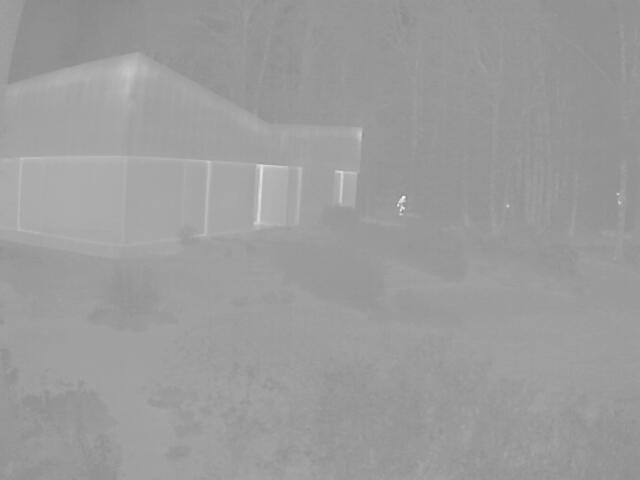person: (394, 195, 406, 215)
